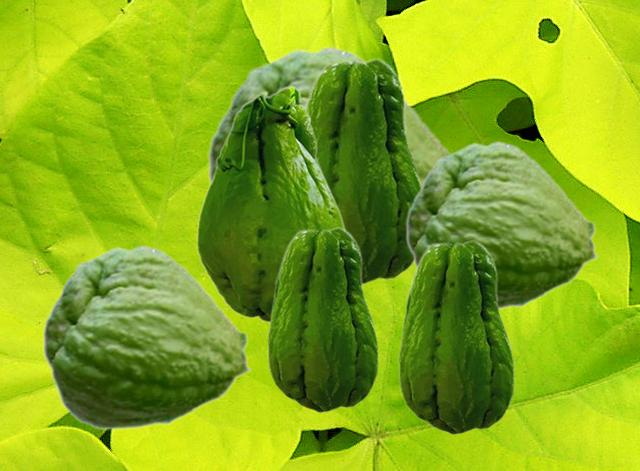sayote: (42, 244, 252, 430), (196, 85, 347, 323), (207, 45, 456, 187), (405, 140, 599, 312), (303, 57, 422, 285), (398, 239, 514, 434), (267, 226, 378, 412)
